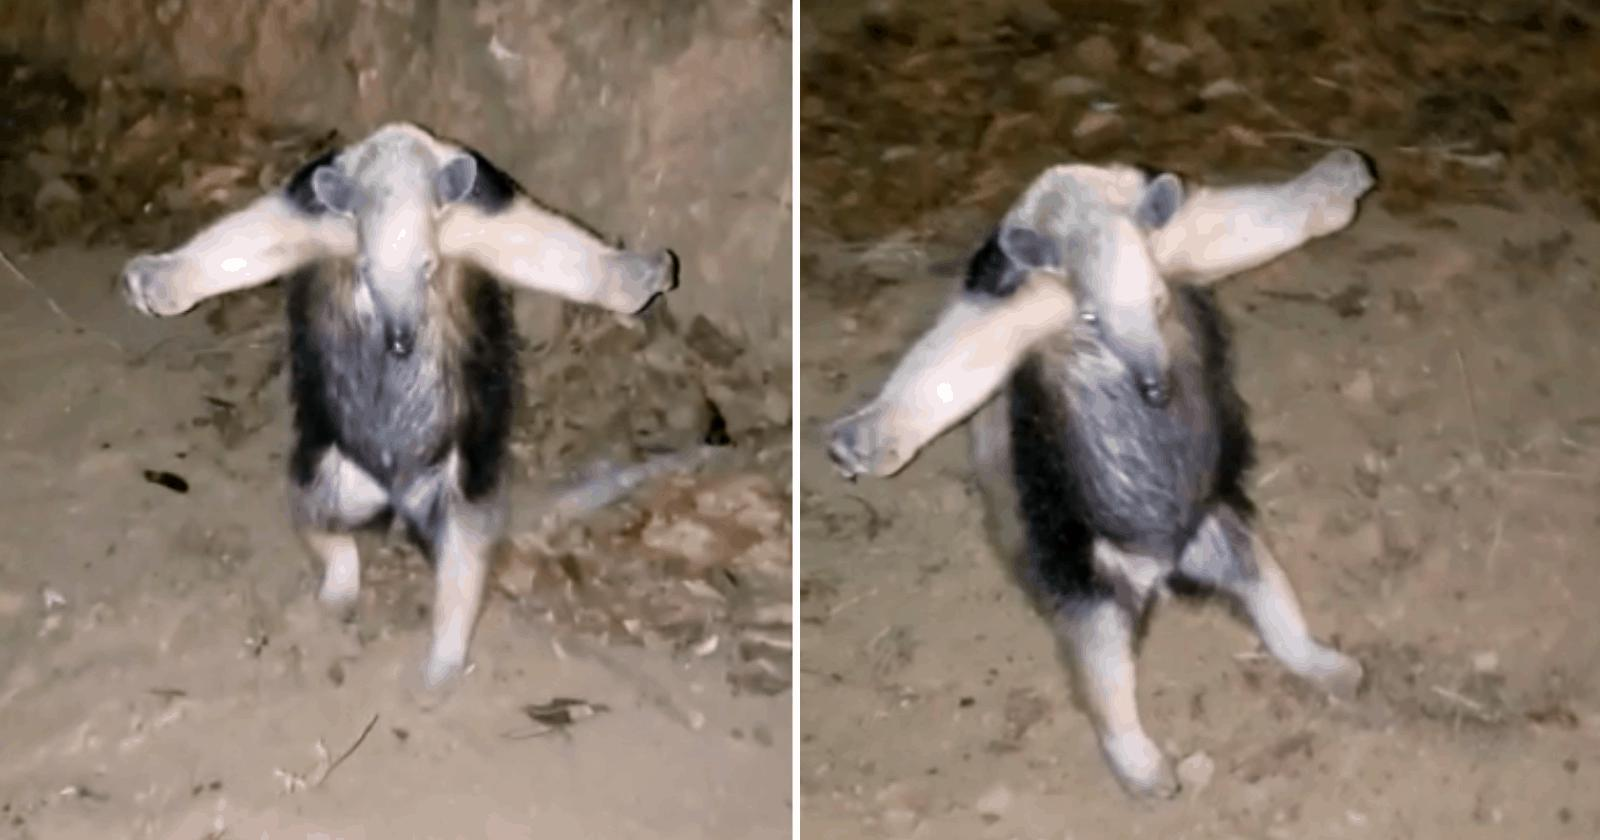TamanduaBandeira: (815, 144, 1403, 808), (106, 118, 684, 694)
